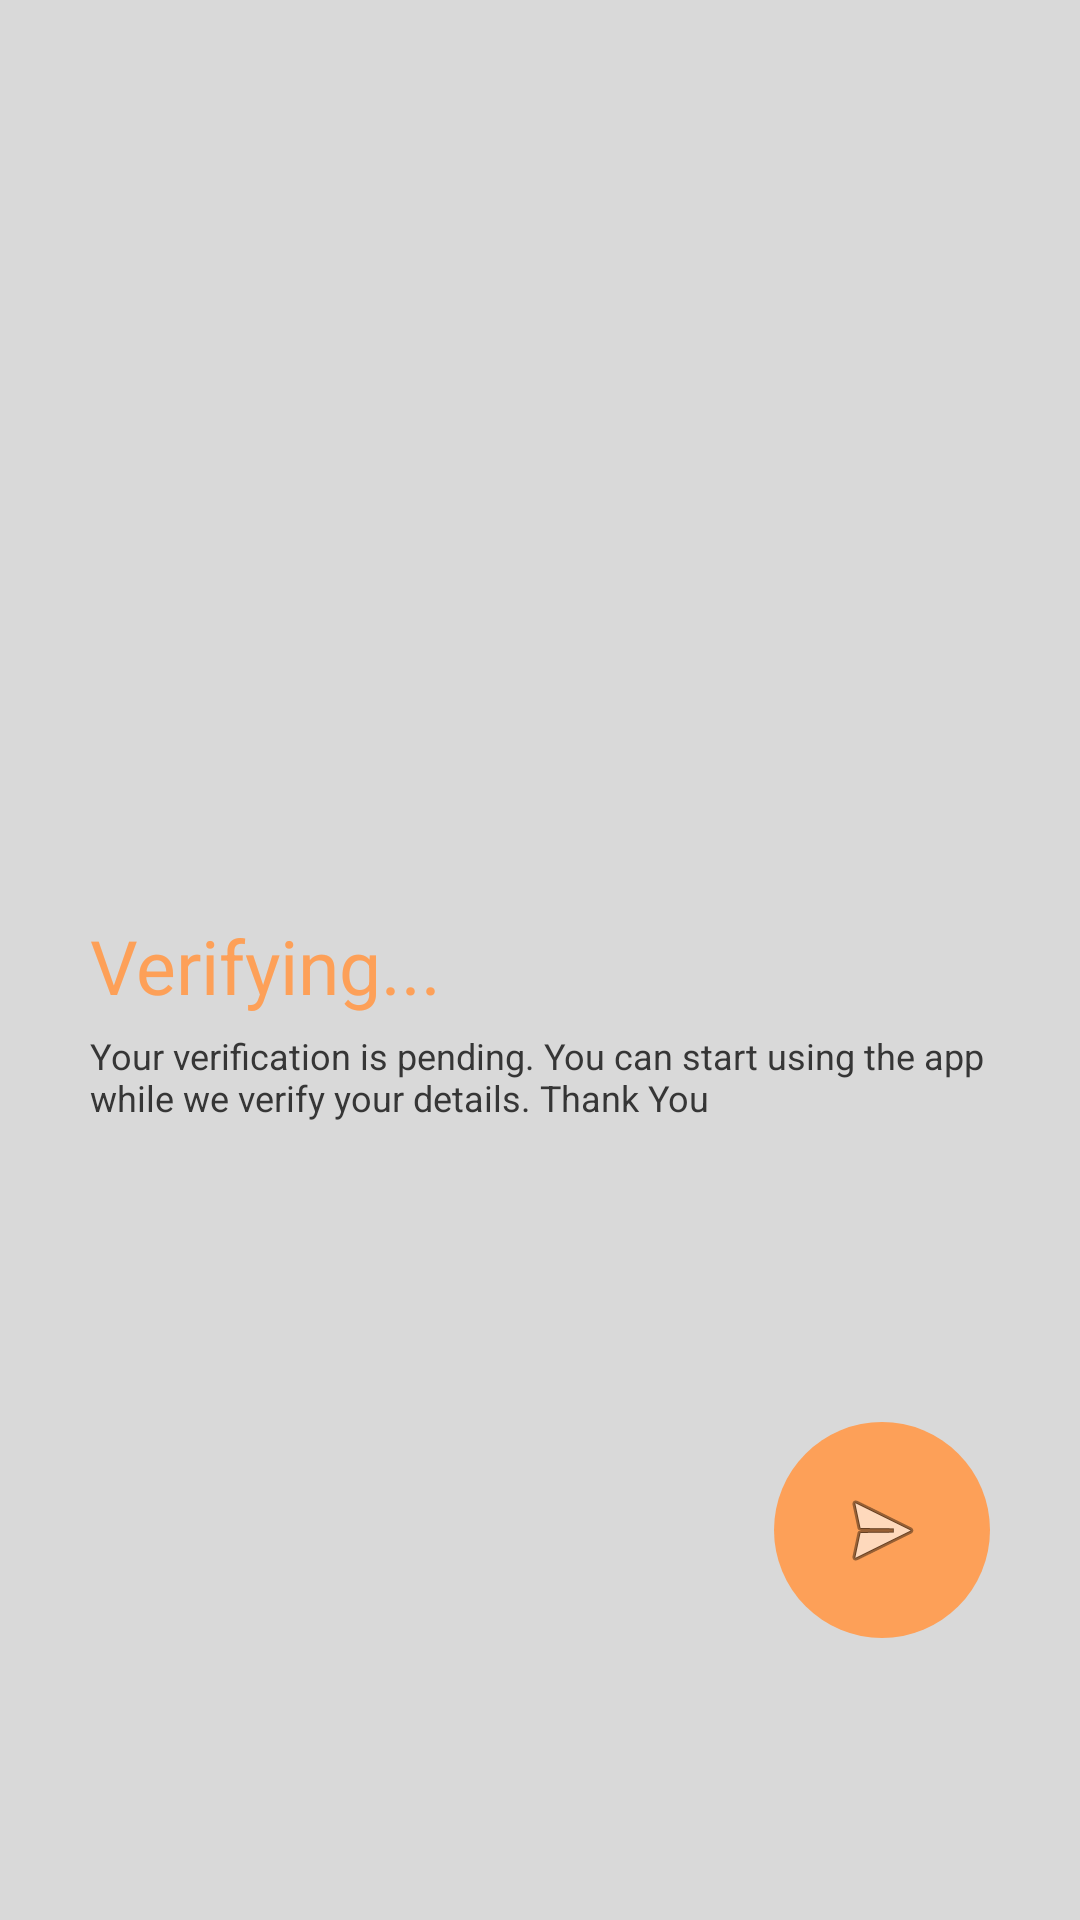

Icons on this 1080x1920 Android screen, each with its box as (x1, y1, x2, y2):
send: (774, 1422, 990, 1638)
